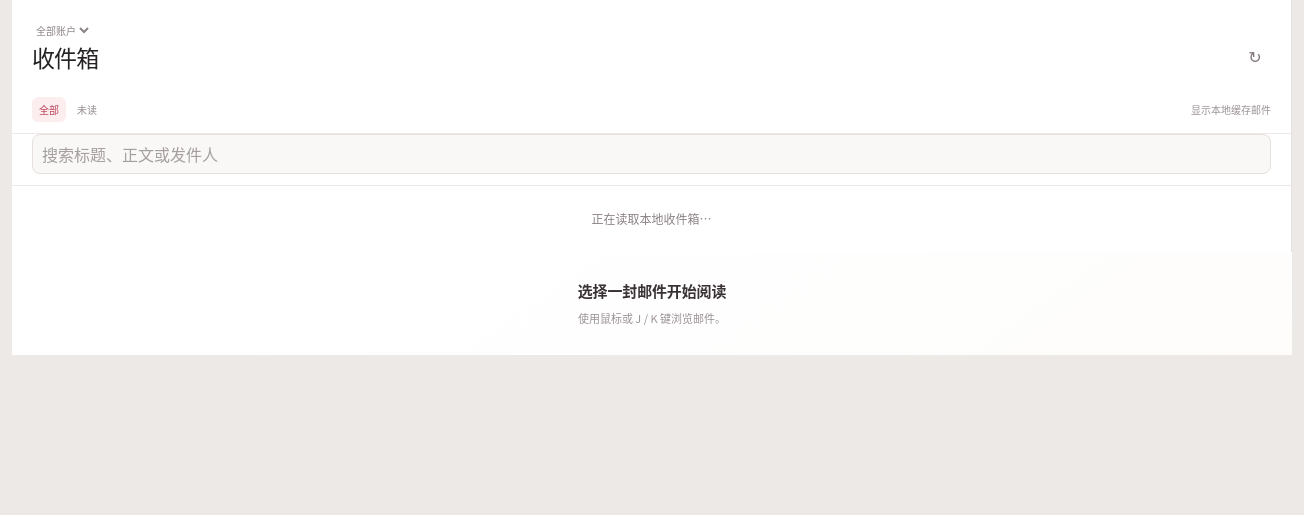
Test: MailWorkspace › 清除搜索后恢复本地收件箱且不提交空查询
Type "项目" into the search field named "搜索邮件" at (652,154), box x1=32 y1=134 x2=1271 y2=174
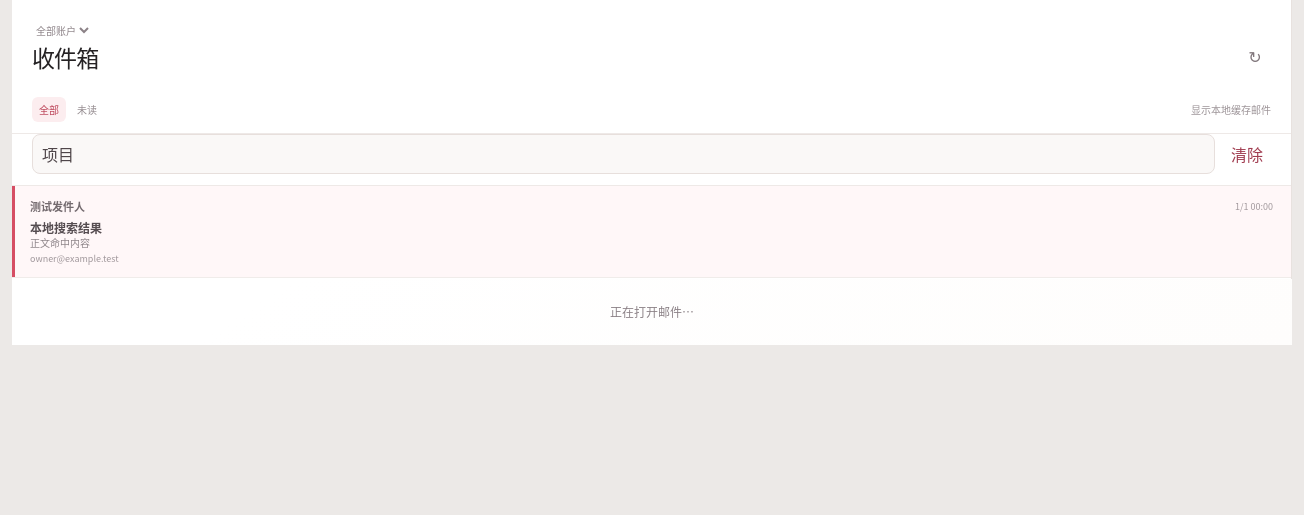
Expected: the text "正文命中内容" is shown, x1=30 y1=235 x2=90 y2=250
Click the button "清除" at (1247,154), box x1=1223 y1=136 x2=1271 y2=172
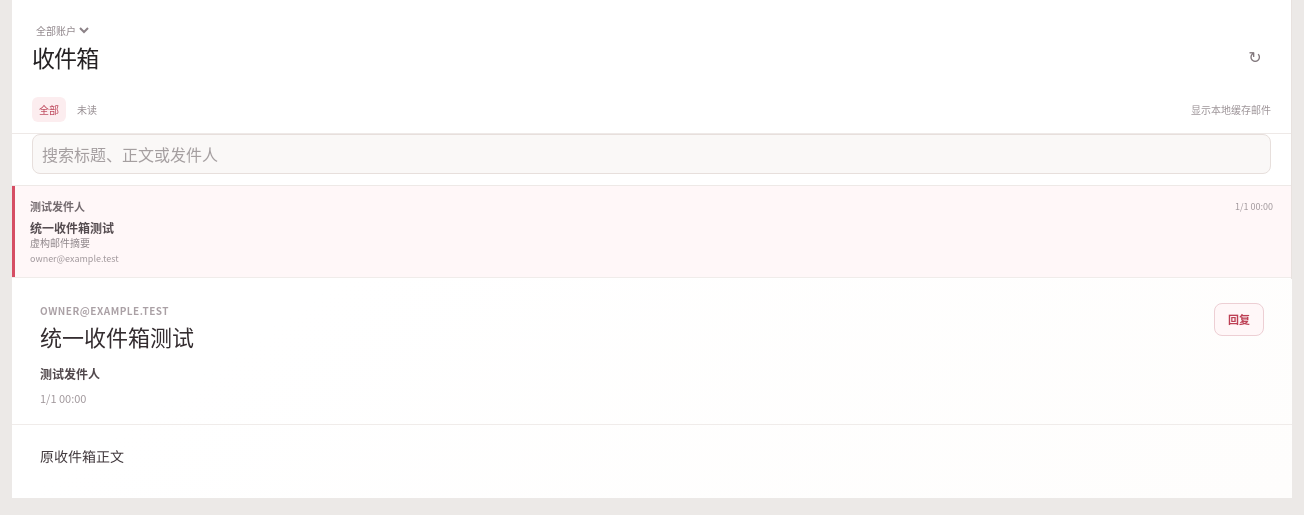
Expected: the option "测试发件人 1/1 00:00 统一收件箱测试 虚构邮件摘要 owner@example.test" is shown, x1=12 y1=186 x2=1291 y2=278
